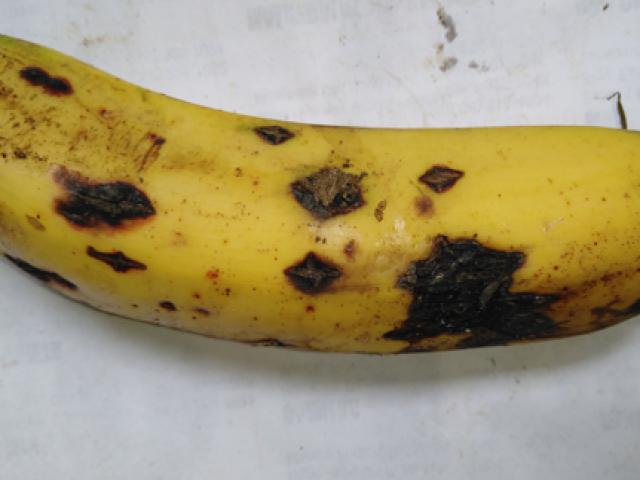rotten: (394, 222, 592, 366), (38, 155, 176, 244), (264, 235, 371, 309), (279, 155, 369, 220), (7, 239, 77, 306), (21, 42, 80, 113), (401, 148, 476, 200), (242, 110, 308, 165), (85, 239, 161, 285)
